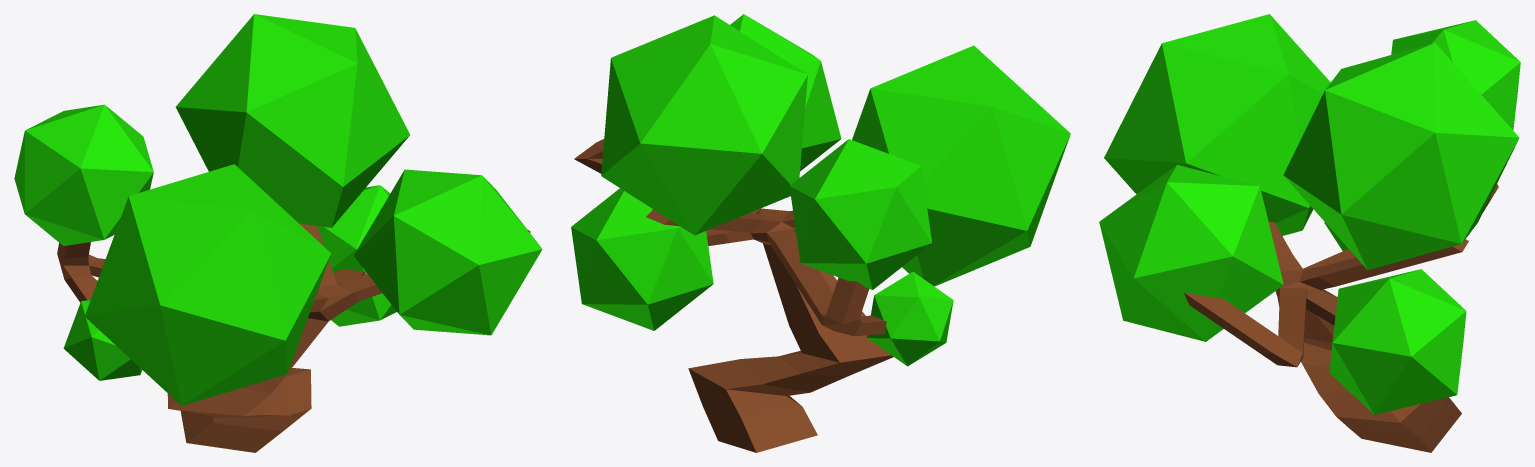
The model's file is bush.fbx.
3 views of the same model, side by side, from view 1: azimuth 30°, elevation 25°; view 2: azimuth 150°, elevation 25°; view 3: azimuth 270°, elevation 25° (orthographic). The views are drawn at different scales.
Visible parts, largest first — view 1: Icosphere.002, Icosphere.005, Icosphere.003, Icosphere.001, Cube, Icosphere.004, Icosphere; view 2: Icosphere.005, Icosphere.002, Cube, Icosphere.001, Icosphere.004, Icosphere, Icosphere.003; view 3: Icosphere.005, Icosphere.002, Icosphere.003, Cube, Icosphere.004, Icosphere.001.
Boxes of the visible parts, left/top/right/bottom form: Icosphere.002: left=84, top=164, right=331, bottom=405; Icosphere.005: left=175, top=14, right=409, bottom=227; Icosphere.003: left=353, top=169, right=542, bottom=335; Icosphere.001: left=14, top=104, right=153, bottom=245; Cube: left=57, top=223, right=530, bottom=452; Icosphere.004: left=317, top=185, right=396, bottom=326; Icosphere: left=63, top=300, right=142, bottom=380; Icosphere.005: left=601, top=15, right=807, bottom=235; Icosphere.002: left=852, top=45, right=1070, bottom=286; Cube: left=574, top=139, right=893, bottom=452; Icosphere.001: left=789, top=139, right=931, bottom=289; Icosphere.004: left=571, top=188, right=713, bottom=330; Icosphere: left=867, top=271, right=953, bottom=366; Icosphere.003: left=730, top=14, right=841, bottom=171; Icosphere.005: left=1283, top=43, right=1519, bottom=269; Icosphere.002: left=1104, top=14, right=1330, bottom=235; Icosphere.003: left=1099, top=165, right=1283, bottom=341; Cube: left=1184, top=184, right=1498, bottom=452; Icosphere.004: left=1329, top=269, right=1466, bottom=414; Icosphere.001: left=1391, top=20, right=1520, bottom=130.
Bounding box in the file's own units: 802 × 685 × 633.
